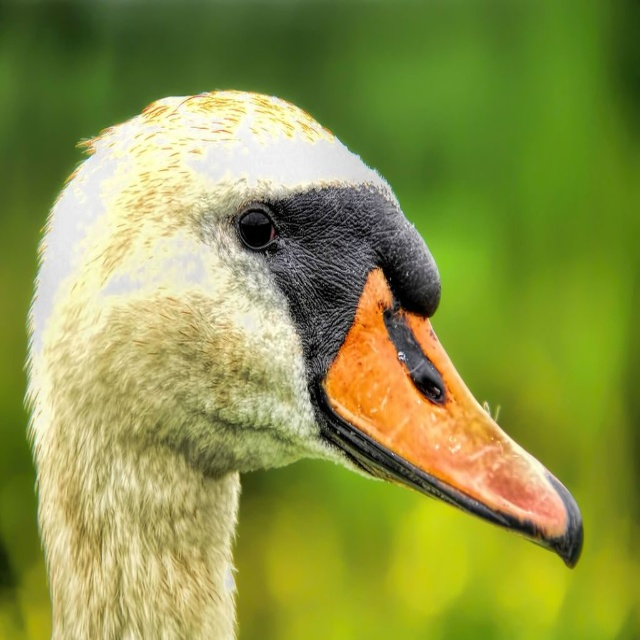Goose: (16, 90, 580, 640)
